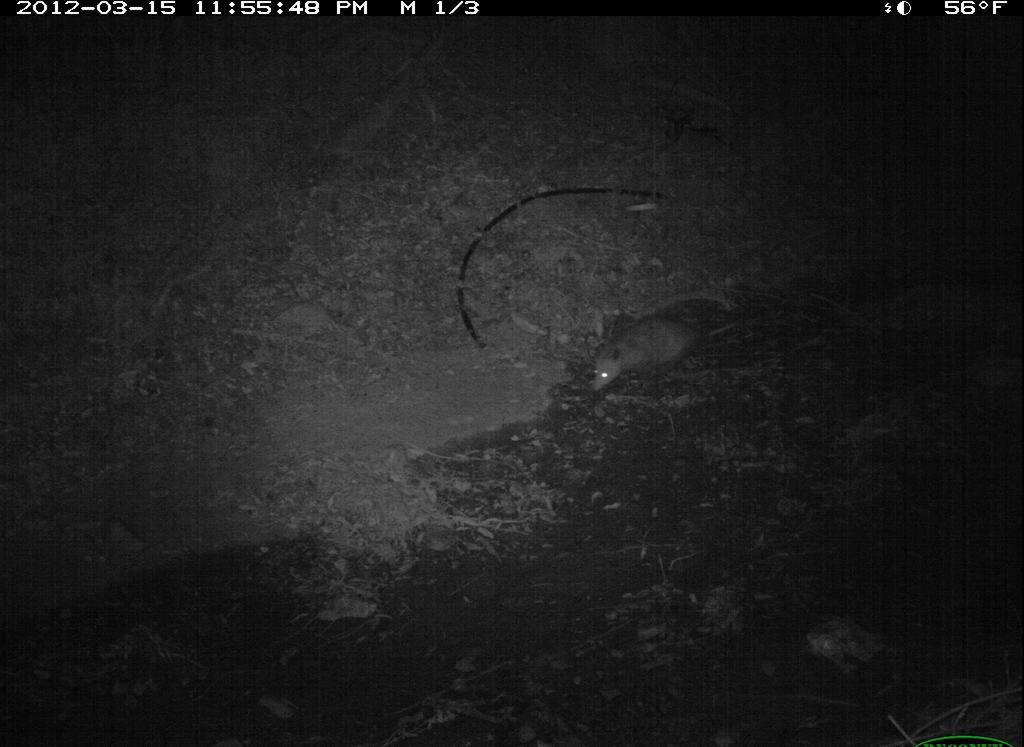opossum: (568, 306, 765, 392)
